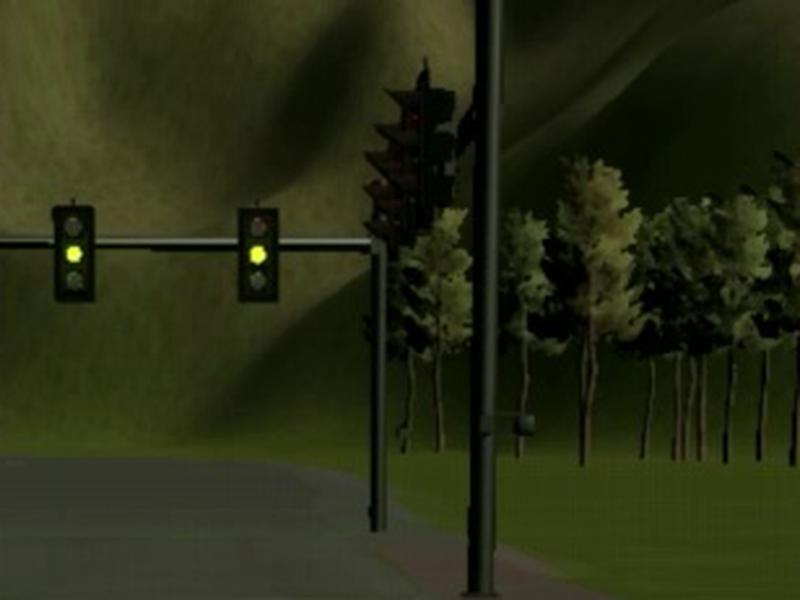Yellow: (237, 207, 280, 303), (54, 205, 96, 303)
